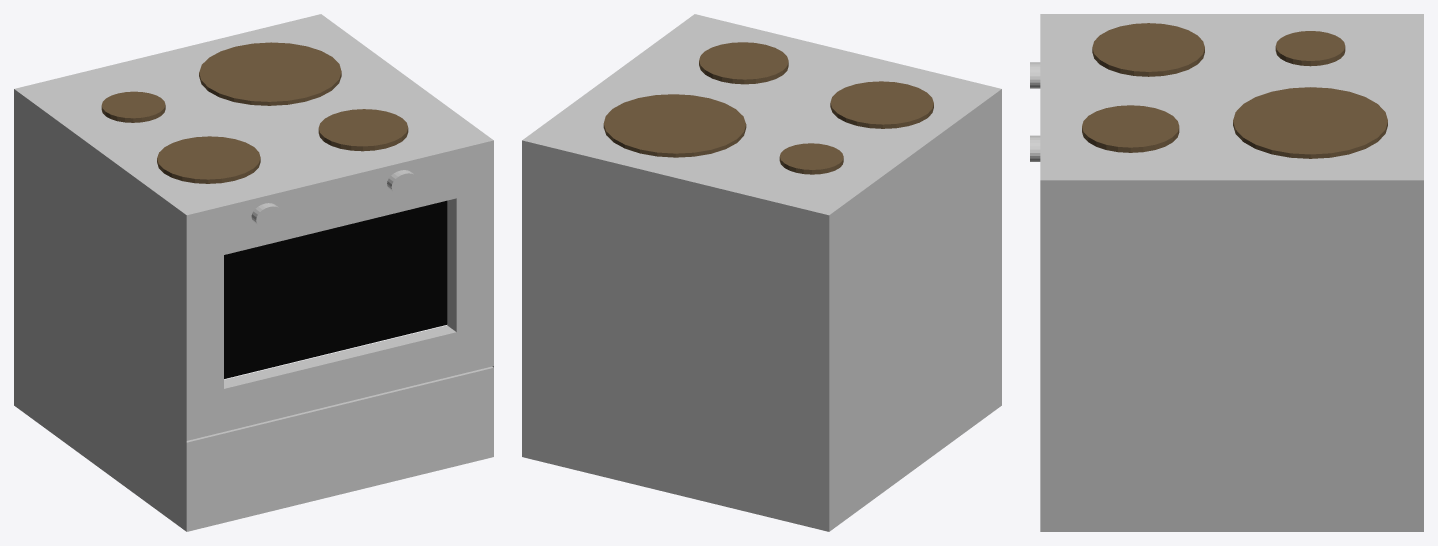
The model's file is sh-contrib-piano-cottura.glb.
3 renders of one model, left to right at view 1: azimuth 30°, elevation 25°; view 2: azimuth 150°, elevation 25°; view 3: azimuth 270°, elevation 25°, orthographic. The views are drawn at different scales.
Visible parts, largest first — view 1: range_Sobe_INOXs.002, range_Sobe_monitor, range_Sobe_Zi; view 2: range_Sobe_INOXs.002, range_Sobe_Zi; view 3: range_Sobe_INOXs.002, range_Sobe_Zi.
Boxes of the visible parts, x1,y1,x2,y2 form: range_Sobe_INOXs.002: (14,14,493,531); range_Sobe_monitor: (224,200,447,378); range_Sobe_Zi: (101,42,408,183); range_Sobe_INOXs.002: (522,14,1001,531); range_Sobe_Zi: (603,42,933,174); range_Sobe_INOXs.002: (1030,14,1423,531); range_Sobe_Zi: (1082,23,1387,158).
Bounding box in the file's own units: 1 × 1 × 1.
